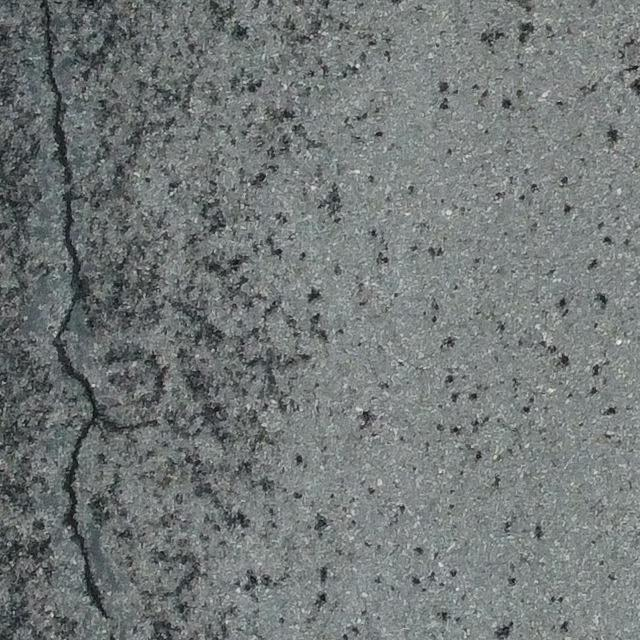LongitudinalCrack: (41, 2, 157, 622)
